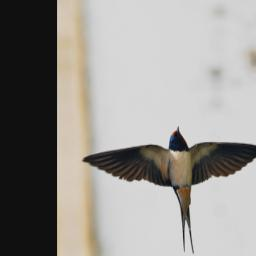Swallow: (78, 123, 256, 256)
